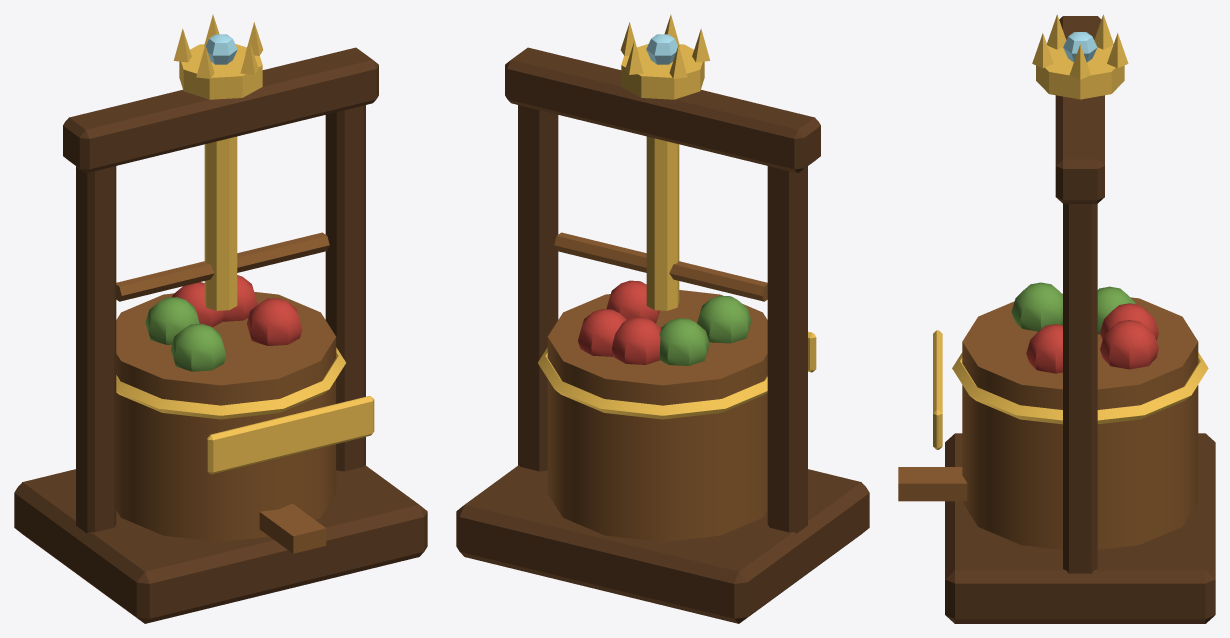
Rendered from PR_Station_Pres_T3.fbx.
The picture shows the model from 3 angles, left to right: view 1: azimuth 30°, elevation 25°; view 2: azimuth 150°, elevation 25°; view 3: azimuth 270°, elevation 25°; orthographic projection. The views are drawn at different scales.
Visible parts, largest first — view 1: PR_Station_Pres_T3; view 2: PR_Station_Pres_T3; view 3: PR_Station_Pres_T3.
Boxes of the visible parts, x1,y1,x2,y2 form: PR_Station_Pres_T3: [14, 14, 427, 623]; PR_Station_Pres_T3: [456, 14, 869, 623]; PR_Station_Pres_T3: [898, 14, 1215, 623].
Bounding box in the file's own units: 0.72 × 1.18 × 0.645.
